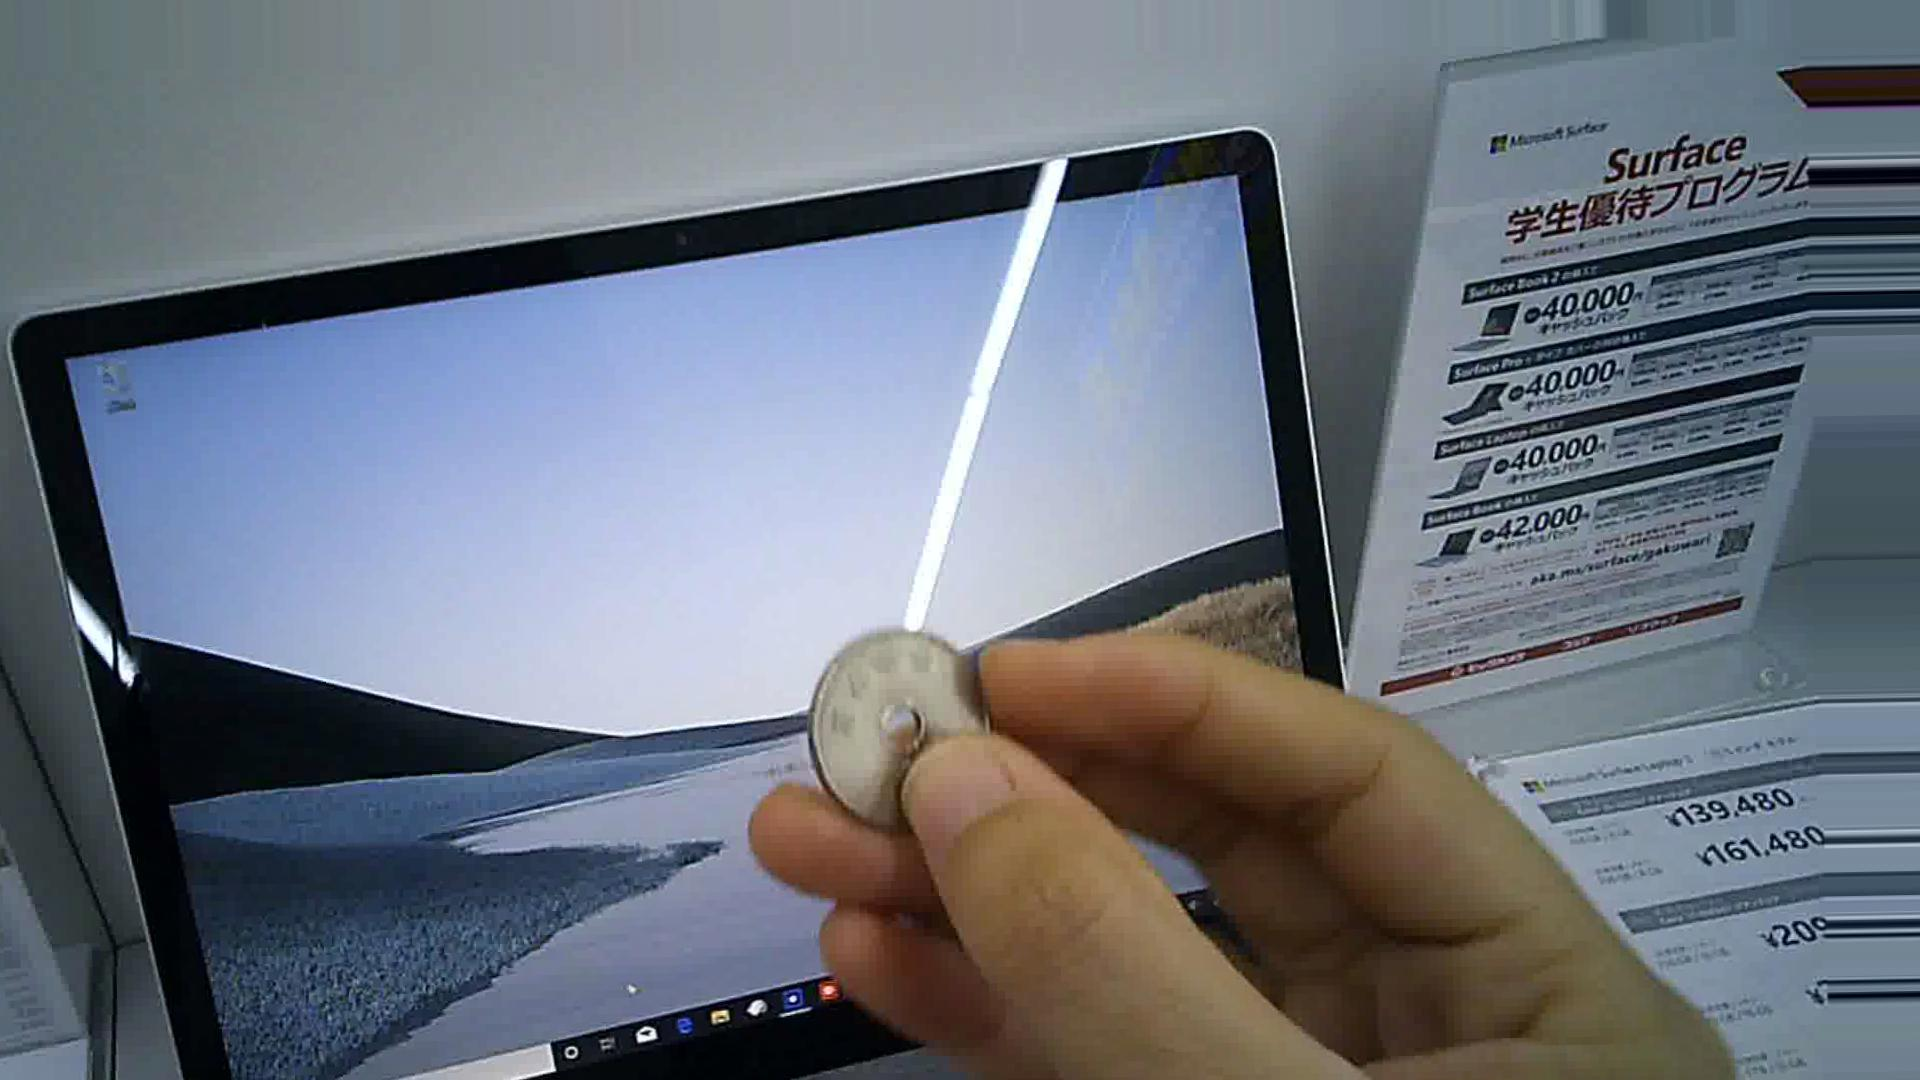50 Yen: (812, 585, 1023, 822)
